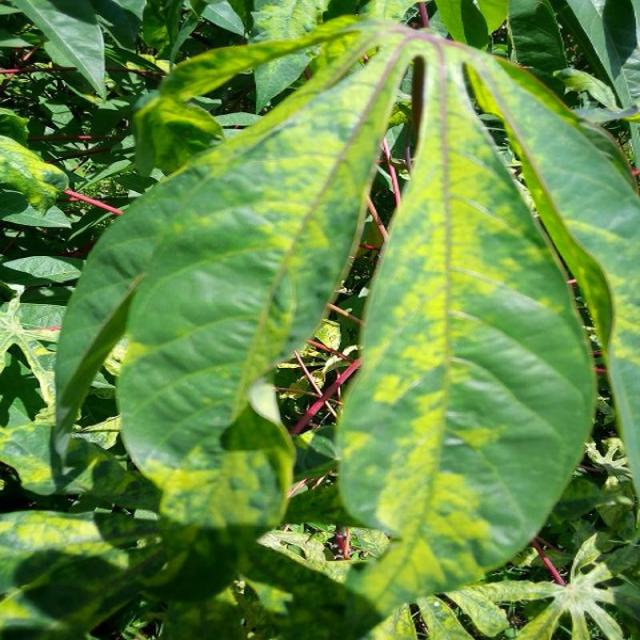cassava leaf: (50, 12, 638, 624), (334, 39, 598, 614)
